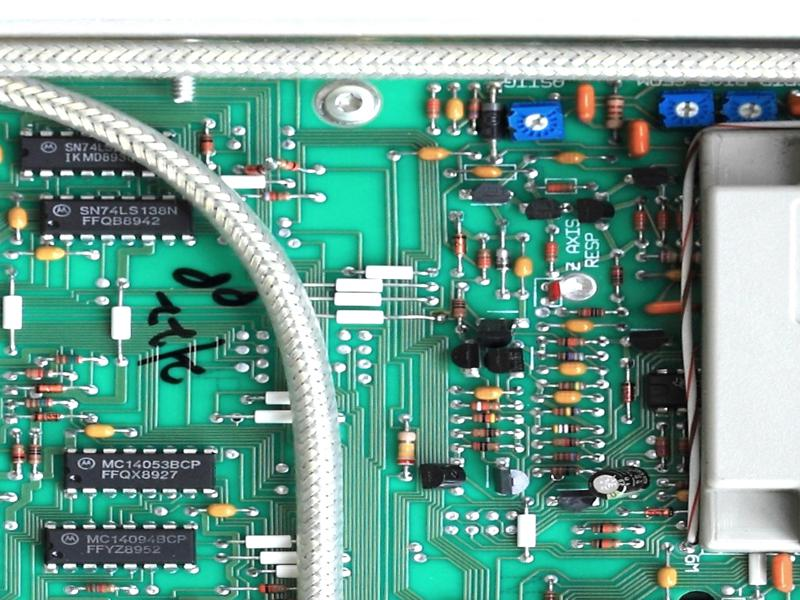Capacitor: (586, 463, 650, 501)
Diode: (478, 97, 506, 143), (493, 243, 513, 275), (452, 228, 470, 263), (638, 504, 680, 518), (620, 375, 637, 408), (237, 160, 269, 177), (32, 381, 69, 395), (29, 410, 65, 423)
Resistor: (393, 425, 419, 471), (602, 91, 626, 133), (654, 249, 705, 265), (545, 403, 587, 420), (465, 398, 509, 414), (271, 153, 304, 174), (546, 435, 591, 450), (547, 463, 588, 479), (587, 521, 627, 537), (20, 365, 59, 381), (551, 334, 590, 350), (254, 189, 295, 204), (653, 433, 672, 465), (546, 421, 586, 436), (448, 295, 470, 322), (467, 425, 506, 440), (588, 535, 624, 551), (549, 449, 585, 465), (554, 378, 592, 393), (631, 208, 650, 238), (80, 581, 120, 595), (253, 581, 293, 595), (49, 352, 86, 367), (608, 262, 626, 292), (544, 180, 580, 195), (467, 412, 505, 426), (654, 205, 670, 237), (574, 305, 608, 320), (9, 440, 27, 468), (423, 96, 442, 122), (475, 246, 492, 275), (552, 350, 589, 363), (197, 133, 216, 158), (21, 397, 57, 410), (27, 441, 44, 468), (543, 238, 560, 265), (465, 95, 482, 122), (468, 440, 501, 453), (678, 432, 690, 463)
